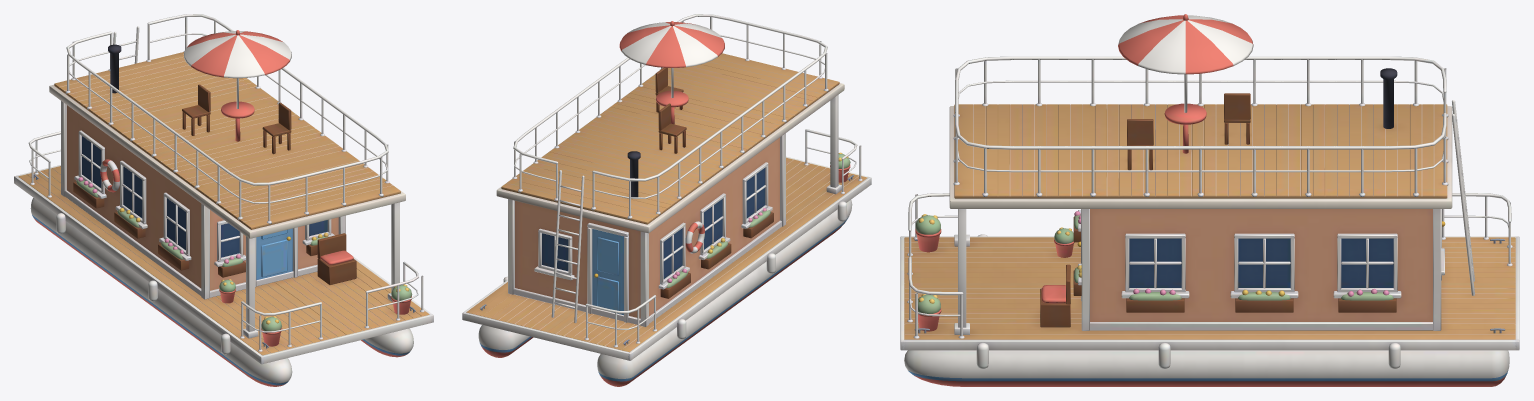
Rendered from houseboat.glb.
3 views of the same model, side by side, from view 1: azimuth 30°, elevation 25°; view 2: azimuth 150°, elevation 25°; view 3: azimuth 270°, elevation 25° (orthographic). The views are drawn at different scales.
Parts seen in each view (by area): view 1: houseboat_body, houseboat_parasol; view 2: houseboat_body, houseboat_parasol; view 3: houseboat_body, houseboat_parasol.
Boxes of the visible parts, bbox=[...] form: houseboat_body: bbox=[14, 14, 433, 386]; houseboat_parasol: bbox=[183, 30, 291, 108]; houseboat_body: bbox=[462, 14, 871, 386]; houseboat_parasol: bbox=[619, 21, 724, 97]; houseboat_body: bbox=[900, 56, 1519, 386]; houseboat_parasol: bbox=[1118, 14, 1253, 112].
Bounding box in the file's own units: 4.44 × 6.12 × 10.22.
Materials: 4 (1 with a texture image).
